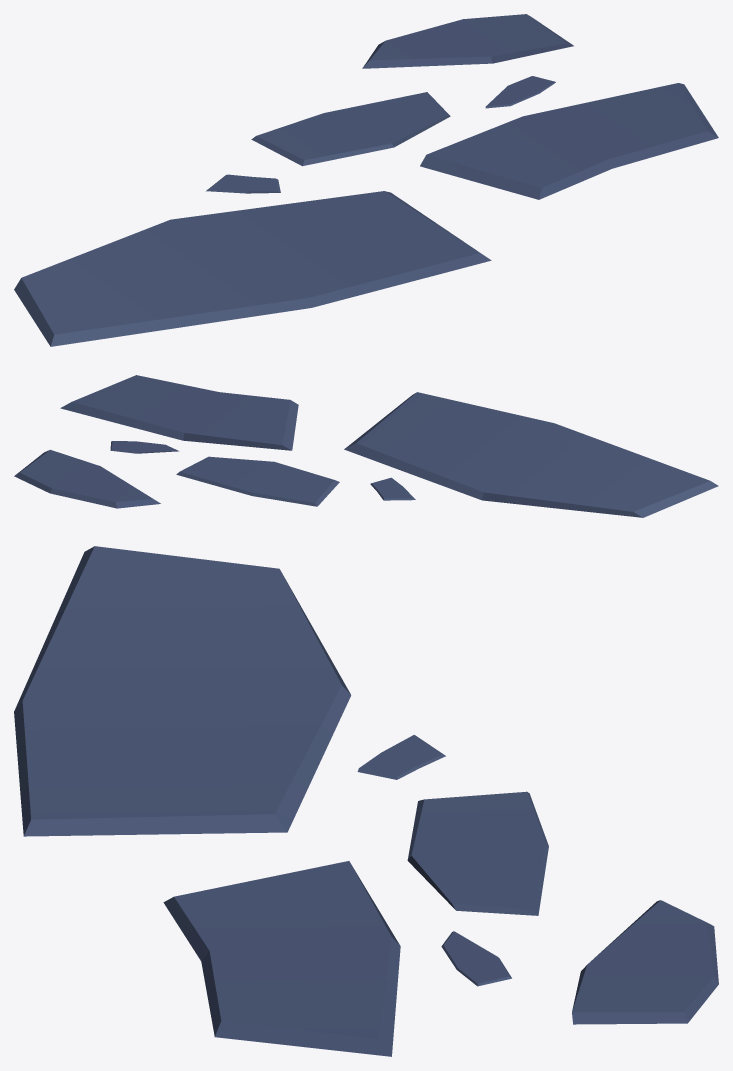
The model's file is FRock_Medium2.fbx.
3 views of the same model, one above another, from view 1: azimuth 30°, elevation 25°; view 2: azimuth 150°, elevation 25°; view 3: azimuth 270°, elevation 25° (orthographic). The views are drawn at different scales.
Parts seen in each view (by area): view 1: rocks_medium_1.001; view 2: rocks_medium_1.001; view 3: rocks_medium_1.001.
Part boxes in pixels (x1,y1,x2,y2): rocks_medium_1.001: (14,14,718,346); rocks_medium_1.001: (14,375,718,517); rocks_medium_1.001: (14,546,718,1056).
Size of the model in its own units: 555 by 5.58 by 327.
Materials: 1 (1 with a texture image).
